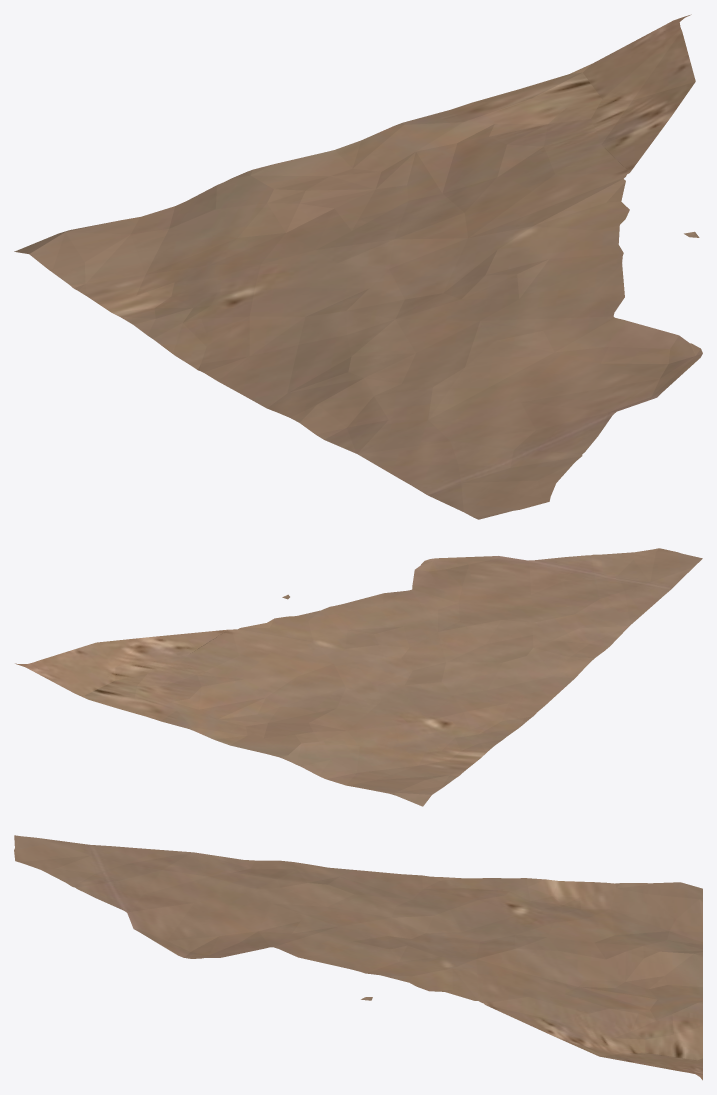
3 renders of one model, top to bottom at view 1: azimuth 30°, elevation 25°; view 2: azimuth 150°, elevation 25°; view 3: azimuth 270°, elevation 25°, orthographic. The views are drawn at different scales.
Size of the model in its own units: 0.6828 by 0.0693 by 0.8098.
Materials: 1 (1 with a texture image).
